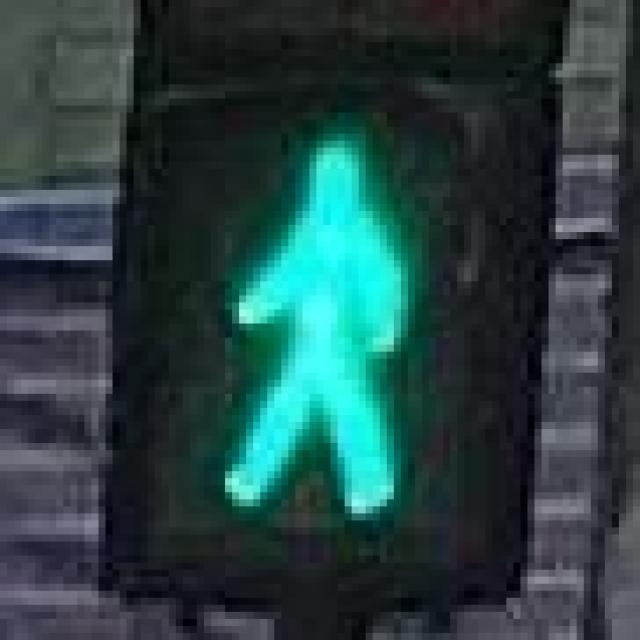green_light: (176, 99, 450, 528)
